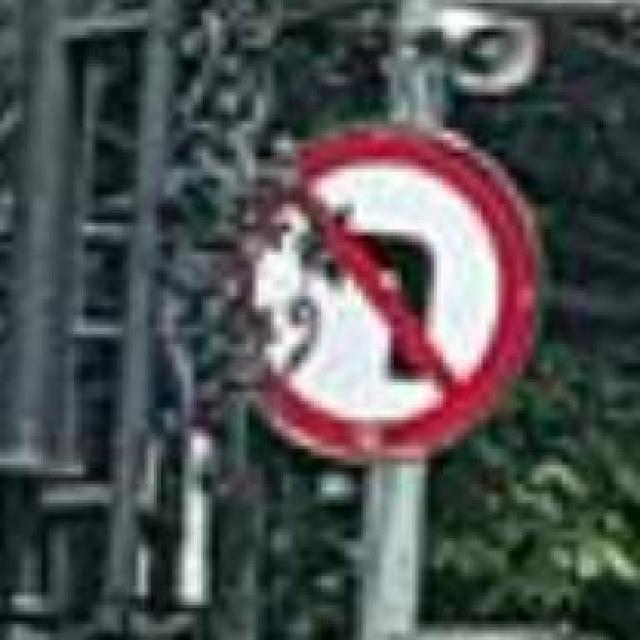traffic sign: (330, 134, 533, 449)
